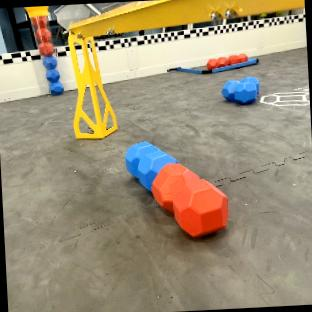Goal: (54, 0, 304, 139)
V5_BLUE: (125, 141, 174, 189), (221, 76, 257, 103)
V5_RED: (151, 162, 229, 236)
